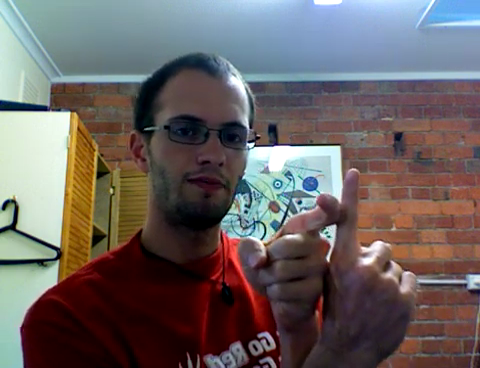K: (229, 161, 431, 364)
